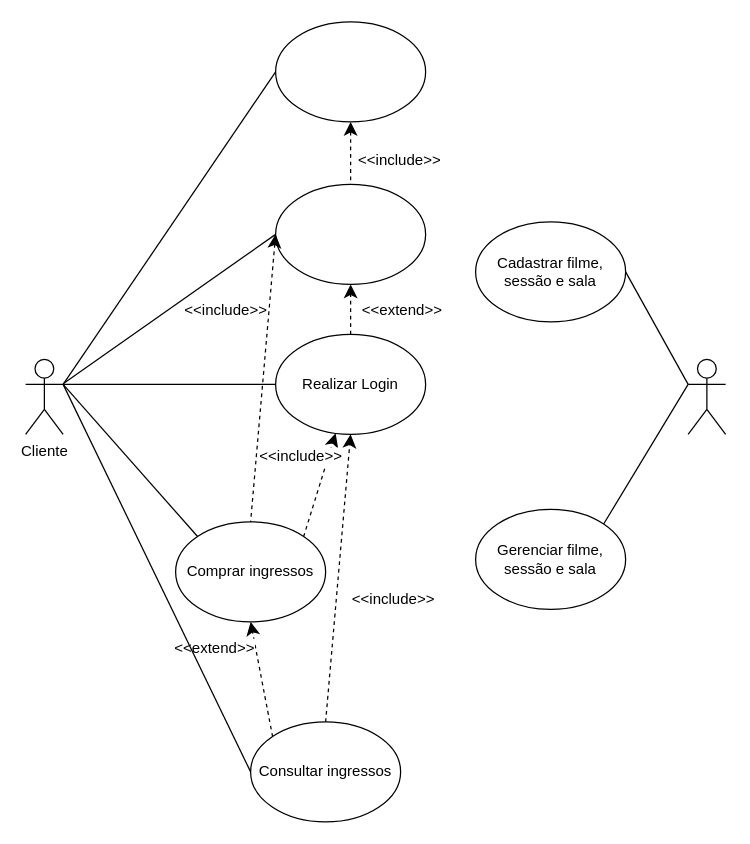
Some shapes in this 750 by 844 pixel diagram are drawn without their labels. The shapes that lost their labels are listed below. From the top down, each one's centre as x and y in pixels, then its label:
point (350, 71): Consultar filme em cartaz
point (350, 233): Escolher assentos
point (706, 396): Admin
